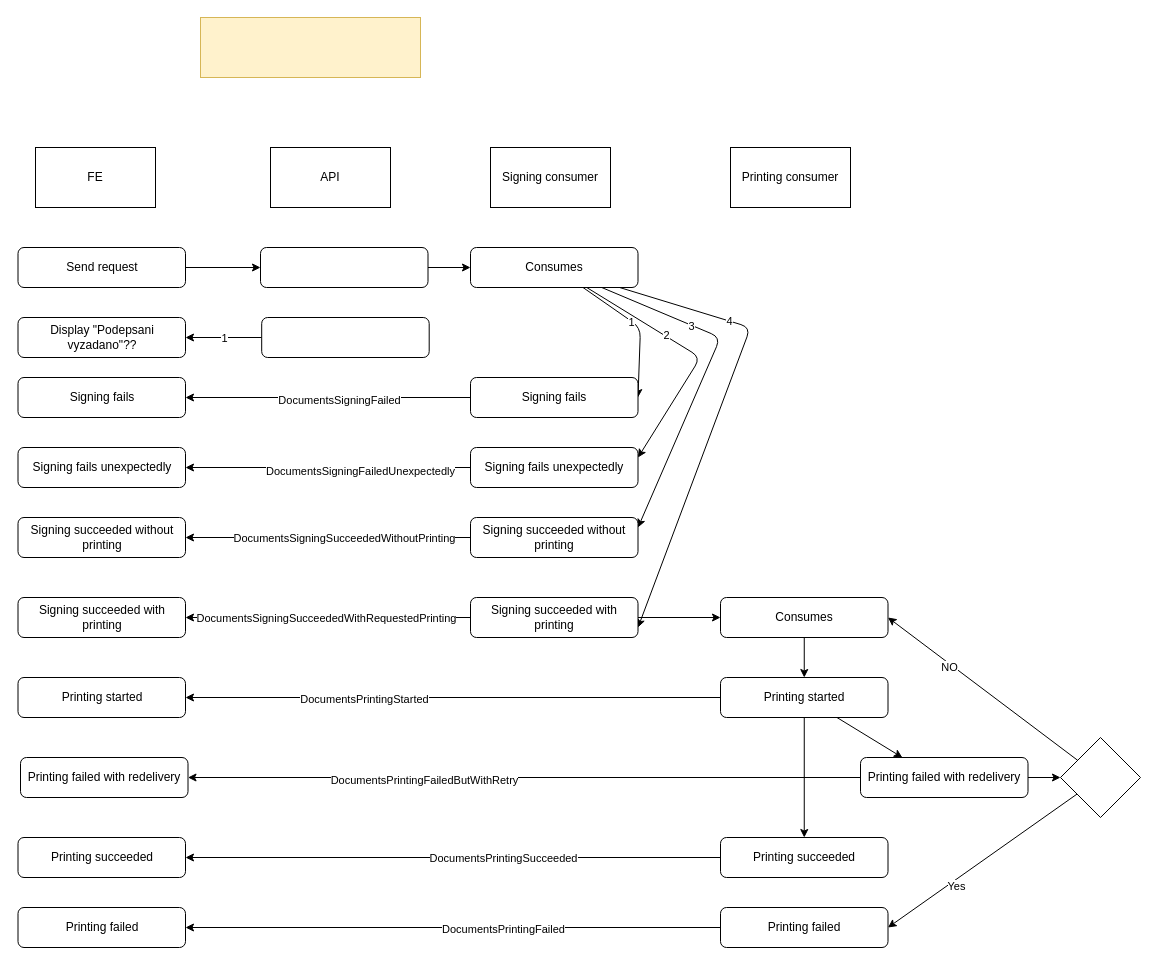
The diagram is 1158 pixels wide and 965 high, and some of its shapes have lost their labels. The centre of each missing label's shape, as x and y in pixels:
"> 12 retries" belongs at (x=1100, y=777).
"Publish signing requested" belongs at (x=344, y=267).
"Returns accepted" belongs at (x=345, y=337).
"Signing flow" belongs at (x=310, y=47).
